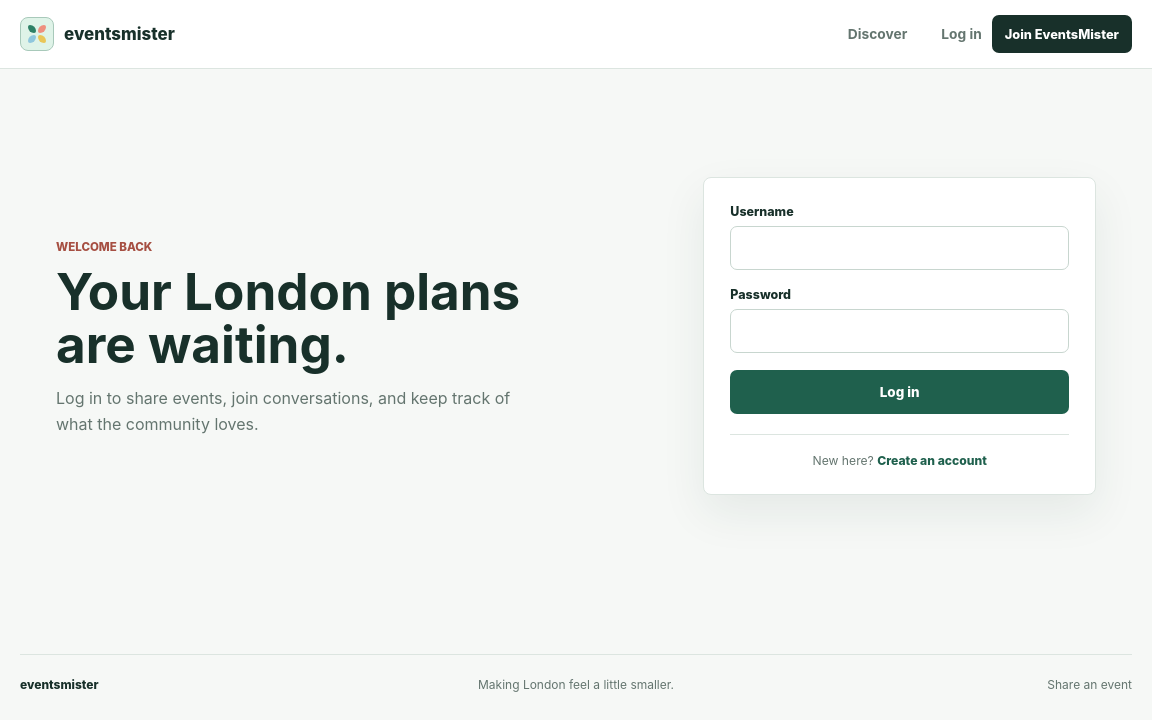
Test: Eventsmister UI › shows API authentication errors in the login form
Type "unknown_user" into the field labelled "Username" at (900,248), box [730,226,1069,270]
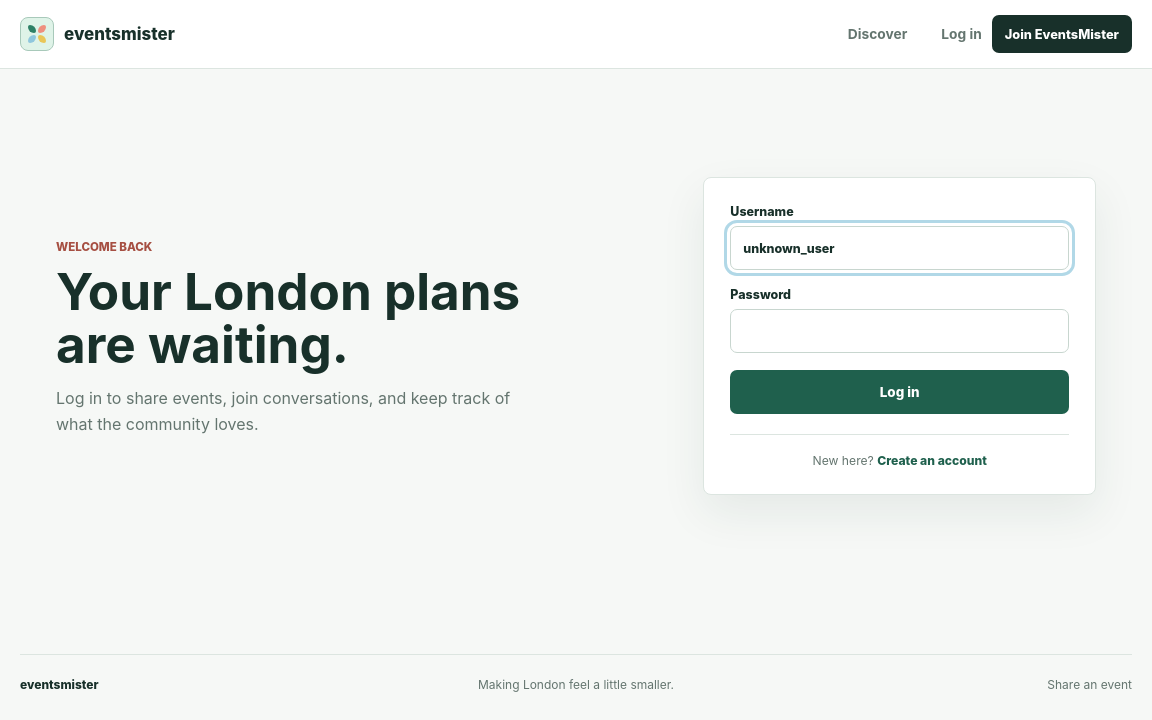
Type "WrongPassword123!" into the password field labelled "Password" at (900,331), box [730,309,1069,353]
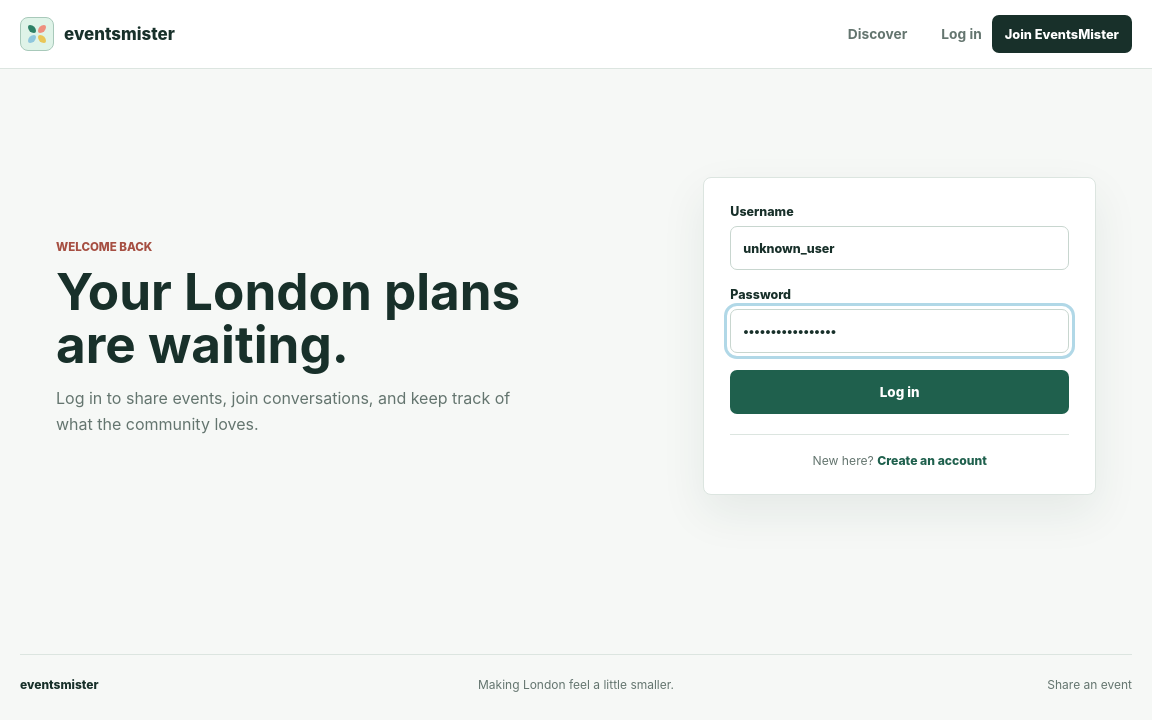
Click the button "Log in" at (900,392), box [730,370,1069,414]
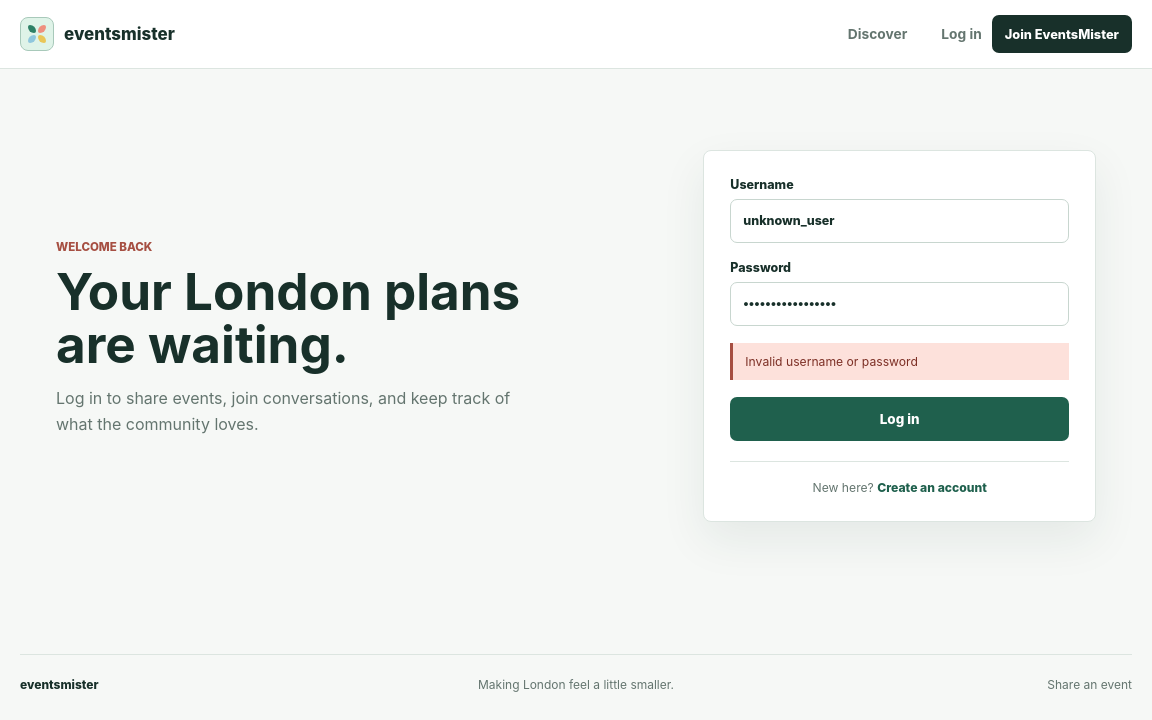
Expected: the message reads "Invalid username or password", [730,343,1069,381]
